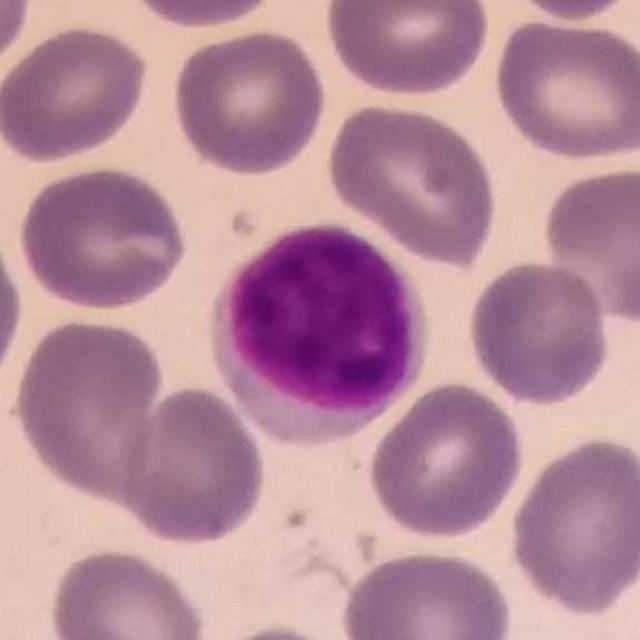Lymphocyte: (203, 226, 432, 445)
RBC: (8, 313, 167, 505), (322, 97, 501, 267), (15, 160, 192, 314), (364, 377, 528, 541), (112, 382, 270, 549), (504, 432, 640, 618), (168, 25, 331, 179), (489, 13, 639, 165), (463, 256, 614, 406), (0, 21, 152, 165), (337, 544, 518, 640), (537, 160, 640, 327), (321, 0, 492, 100), (44, 543, 212, 640), (121, 0, 285, 31), (0, 220, 28, 398), (496, 0, 638, 23), (200, 620, 360, 640), (0, 1, 36, 78)
